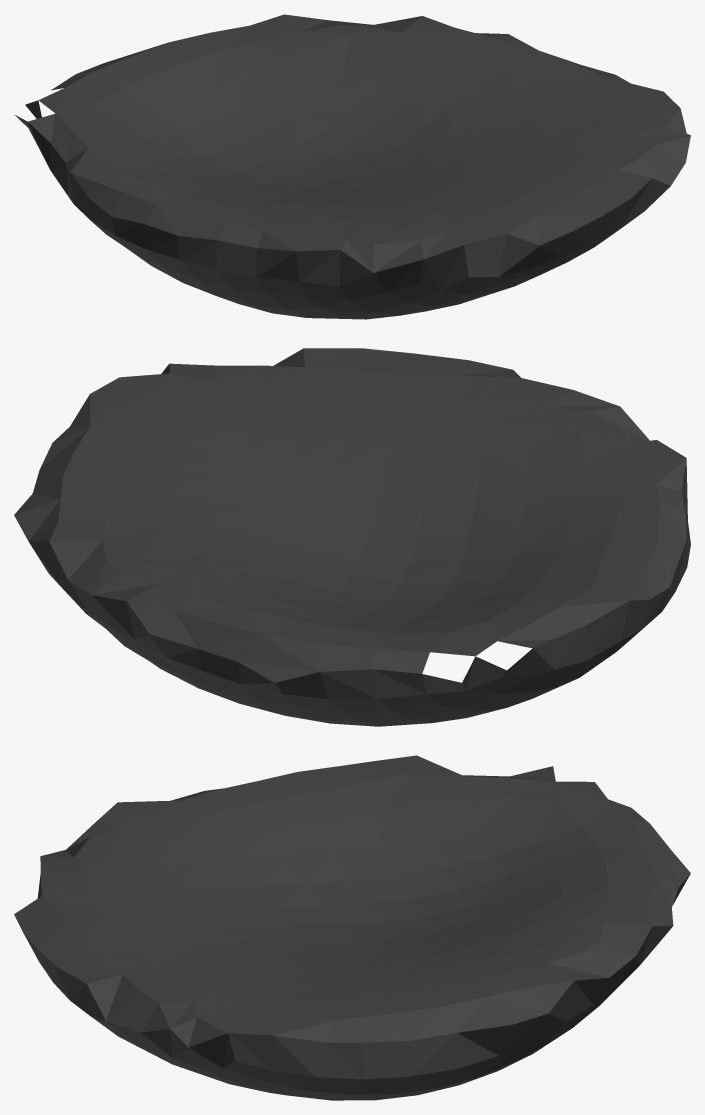
Rendered from APEX.glb.
The picture shows the model from 3 angles, top to bottom: view 1: azimuth 30°, elevation 25°; view 2: azimuth 150°, elevation 25°; view 3: azimuth 270°, elevation 25°; orthographic projection. The views are drawn at different scales.
Parts seen in each view (by area): view 1: APEX; view 2: APEX; view 3: APEX.
Part boxes in pixels (x1,y1,x2,y2): APEX: [15, 14, 690, 319]; APEX: [14, 348, 690, 726]; APEX: [14, 755, 690, 1100].
Bounding box in the file's own units: 35.18 × 9.07 × 35.89.
1 material, 1 textured.
